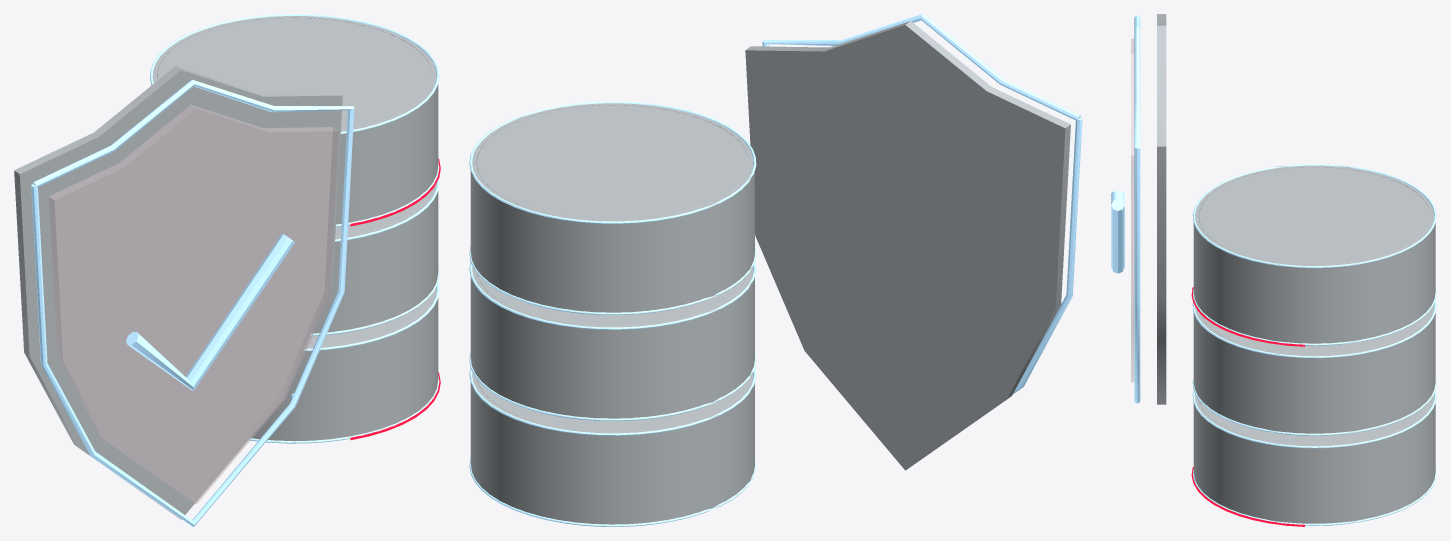
File: 20-security.glb
3 views of the same model, side by side, from view 1: azimuth 30°, elevation 25°; view 2: azimuth 150°, elevation 25°; view 3: azimuth 270°, elevation 25° (orthographic). The views are drawn at different scales.
Parts seen in each view (by area): view 1: BC thin clear technical glass, BC subtle ruby technical glass, BC cool glass edge, BC ruby signal edge; view 2: BC thin clear technical glass, BC cool glass edge; view 3: BC thin clear technical glass, BC cool glass edge, BC subtle ruby technical glass, BC ruby signal edge.
Boxes of the visible parts, bbox=[...] form: BC thin clear technical glass: bbox=[14, 16, 438, 519]; BC subtle ruby technical glass: bbox=[49, 104, 338, 504]; BC cool glass edge: bbox=[31, 14, 439, 526]; BC ruby signal edge: bbox=[350, 158, 440, 439]; BC thin clear technical glass: bbox=[470, 21, 1070, 524]; BC cool glass edge: bbox=[469, 14, 1082, 526]; BC thin clear technical glass: bbox=[1157, 14, 1435, 523]; BC cool glass edge: bbox=[1111, 15, 1436, 525]; BC subtle ruby technical glass: bbox=[1131, 38, 1134, 382]; BC ruby signal edge: bbox=[1191, 287, 1304, 526].
Bounding box in the file's own units: 1.79 × 1.56 × 1.21.
